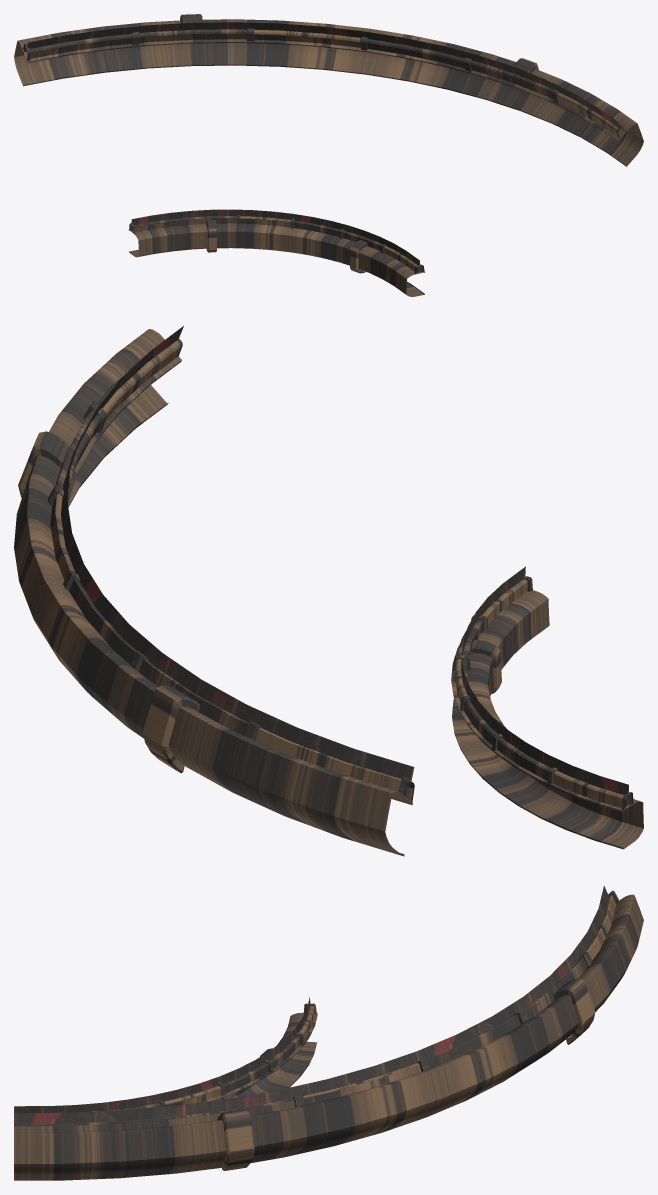
The model's file is Mur_V_C_90x1.fbx.
The picture shows the model from 3 angles, top to bottom: view 1: azimuth 30°, elevation 25°; view 2: azimuth 150°, elevation 25°; view 3: azimuth 270°, elevation 25°; orthographic projection. The views are drawn at different scales.
Parts seen in each view (by area): view 1: polySurface350; view 2: polySurface350; view 3: polySurface350.
Boxes of the visible parts, left/top/right/bottom form: polySurface350: left=14, top=14, right=643, bottom=296; polySurface350: left=14, top=326, right=643, bottom=856; polySurface350: left=14, top=885, right=643, bottom=1180.
Bounding box in the file's own units: 26.37 × 8.2 × 27.9.
